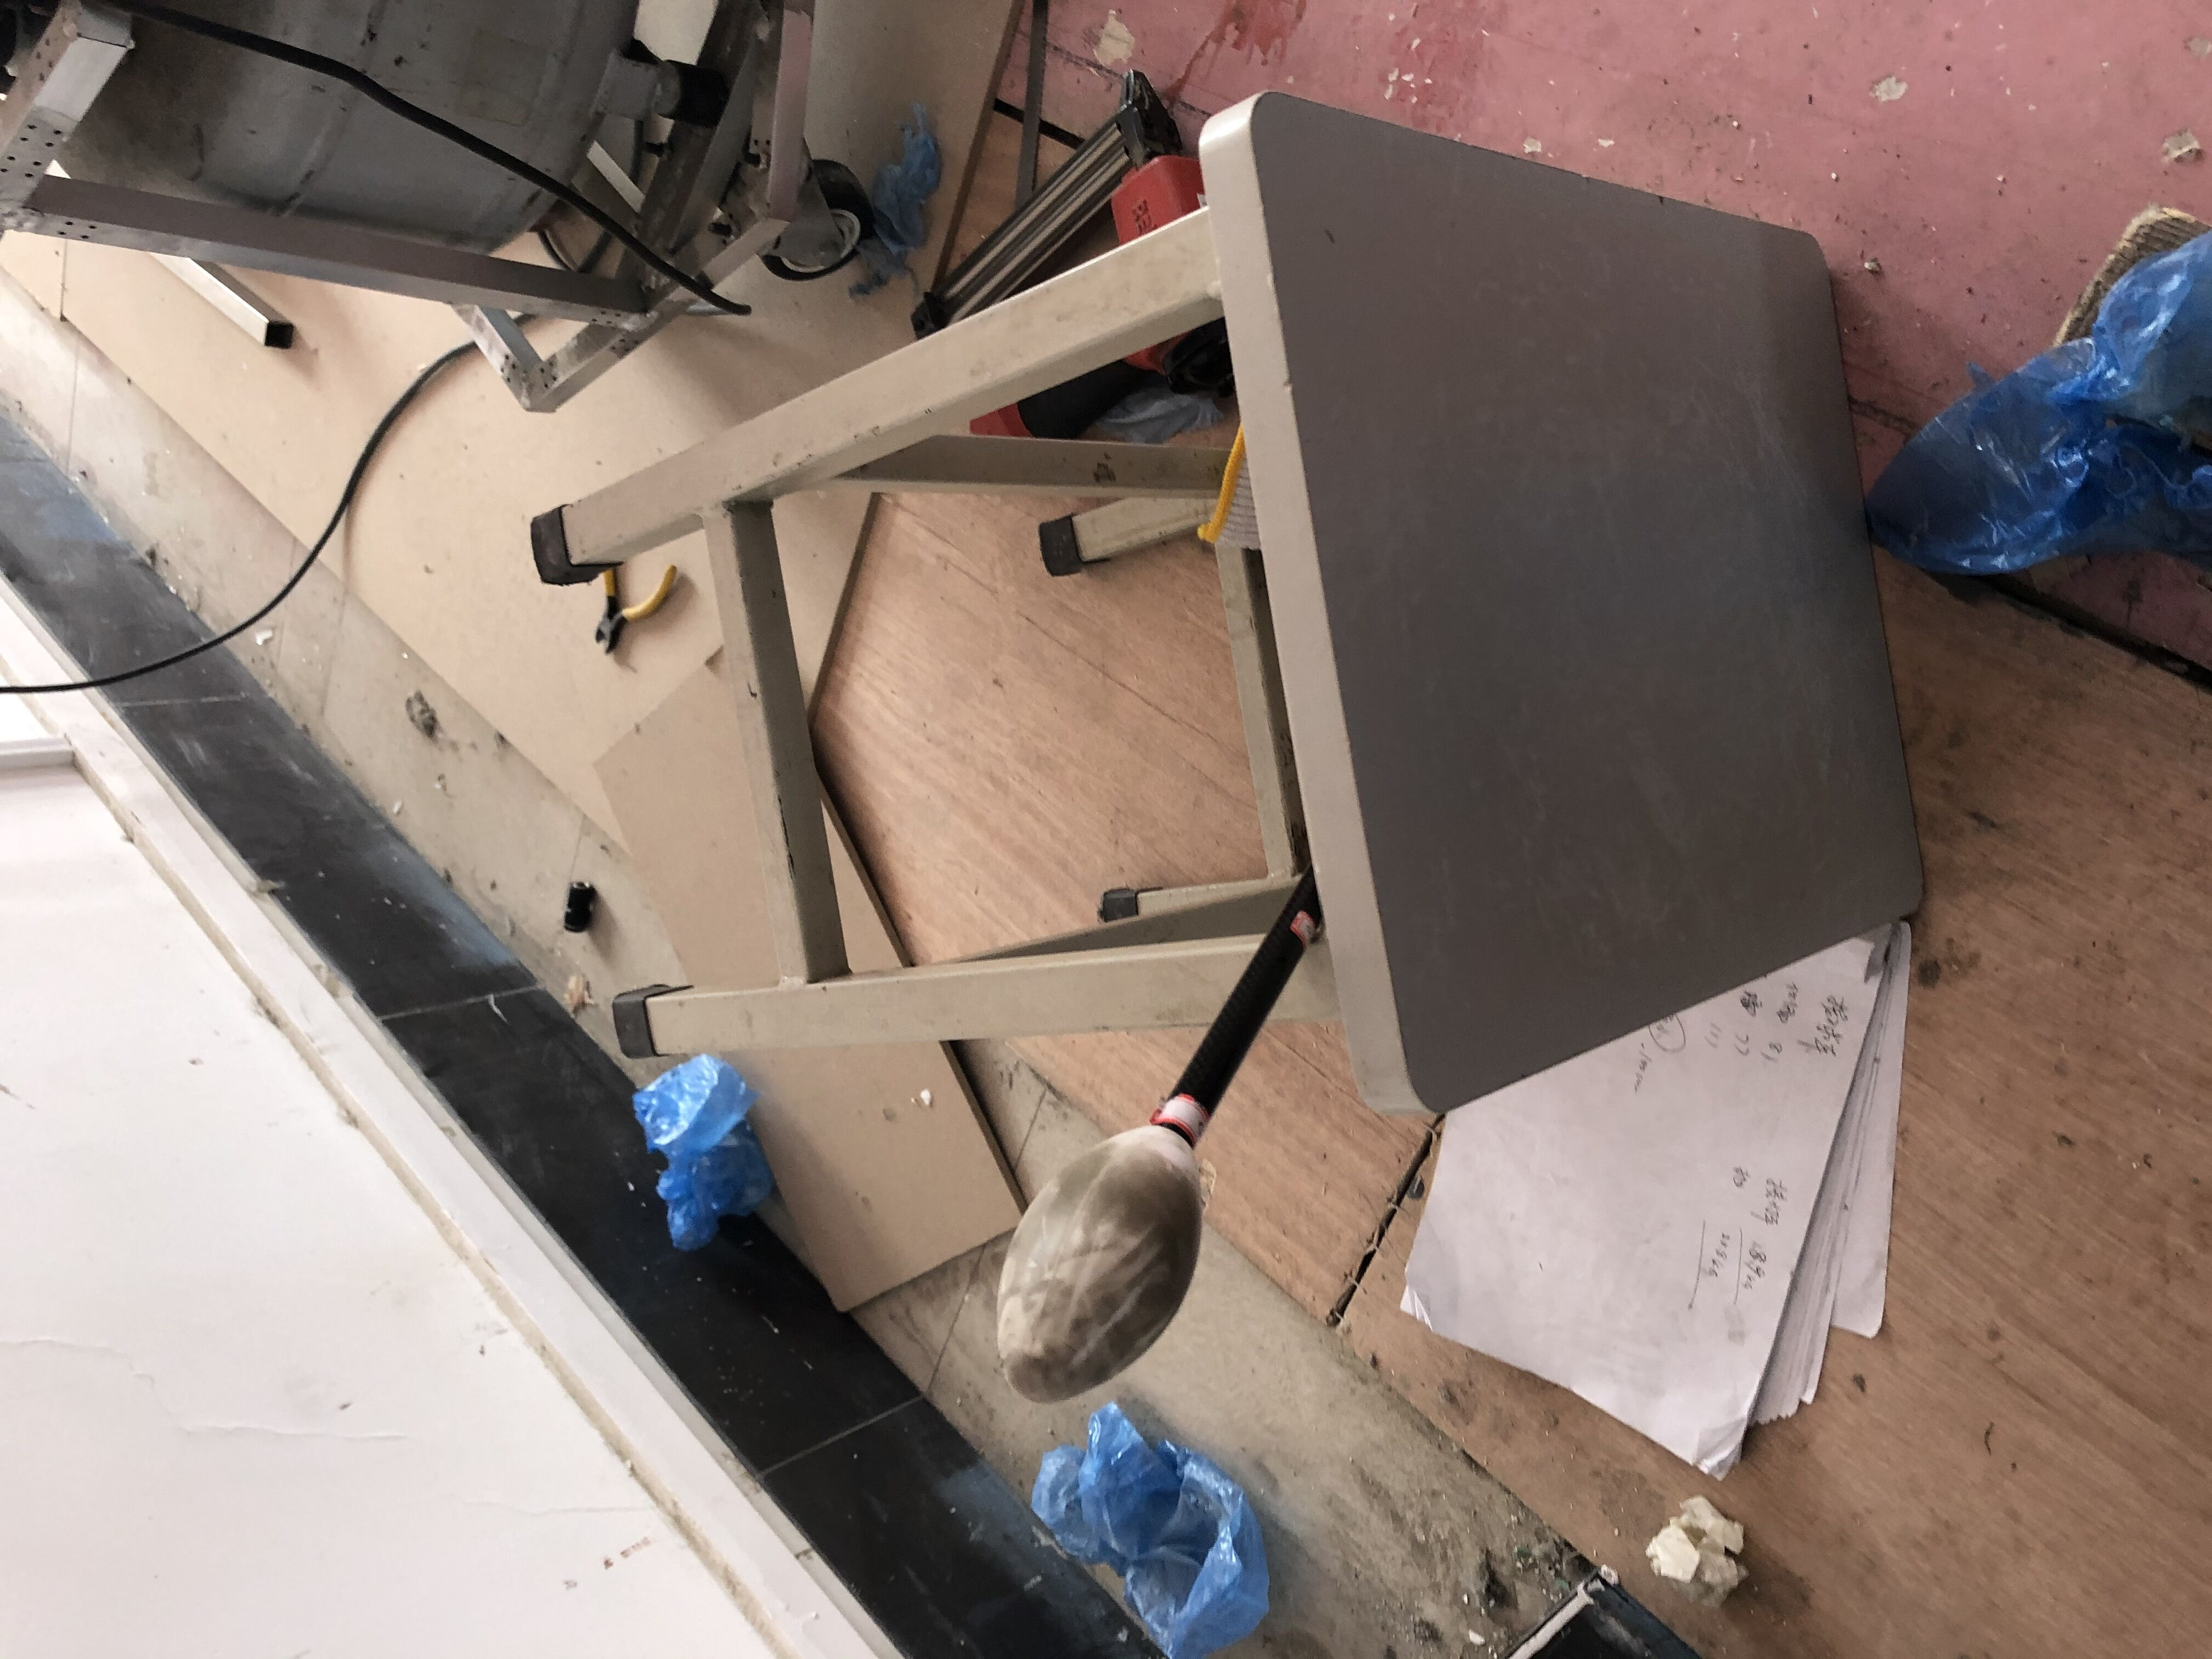arrow: (998, 864, 1331, 1406)
arrowFront: (998, 1124, 1204, 1401)
